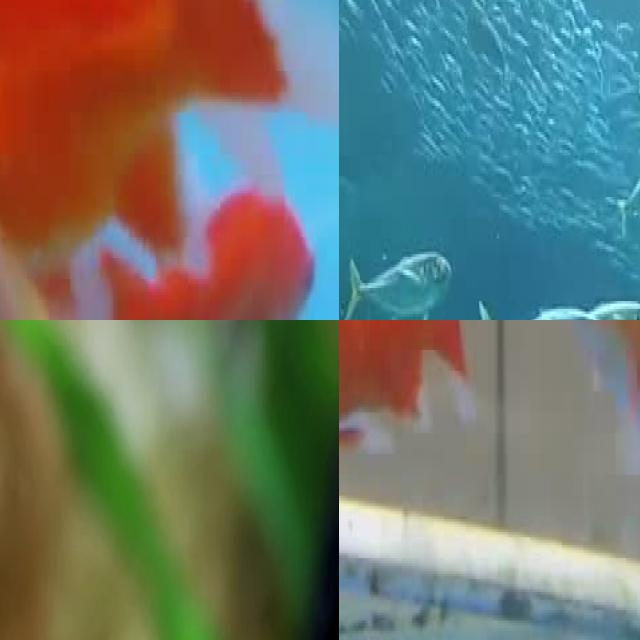fish: (0, 0, 339, 320), (339, 320, 548, 467), (340, 238, 459, 320)
